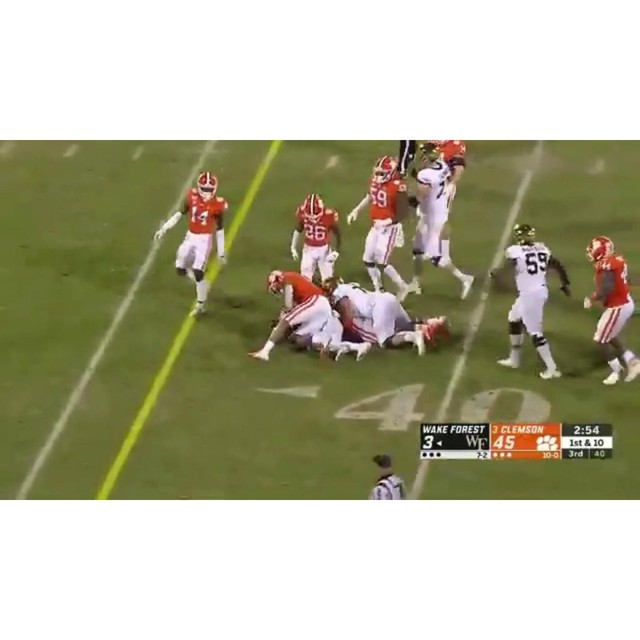american-football-player: (497, 222, 571, 379), (155, 172, 229, 317), (409, 144, 476, 304), (324, 278, 446, 359), (349, 158, 415, 302), (582, 235, 640, 387), (290, 195, 340, 285)
